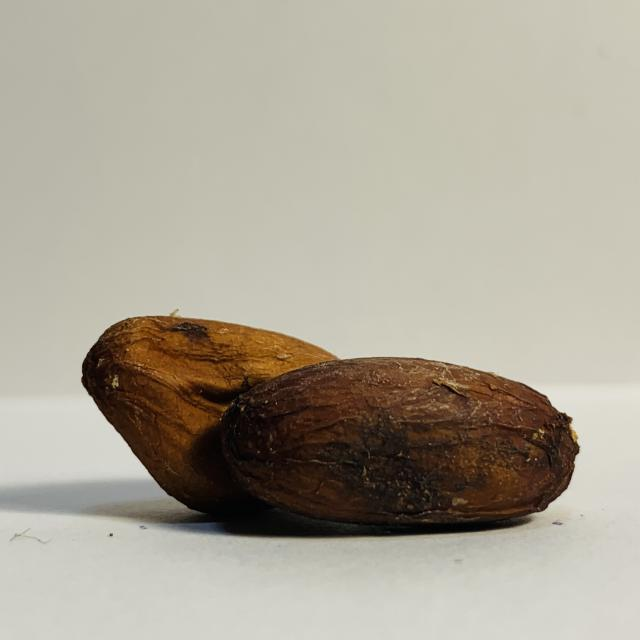Agglomerated_cocoabeans: (4, 294, 602, 564)
